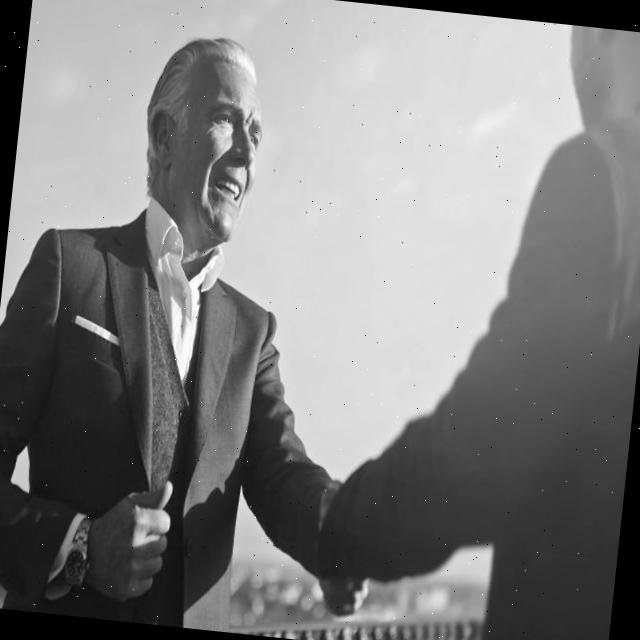Happiness: (168, 51, 272, 249)
